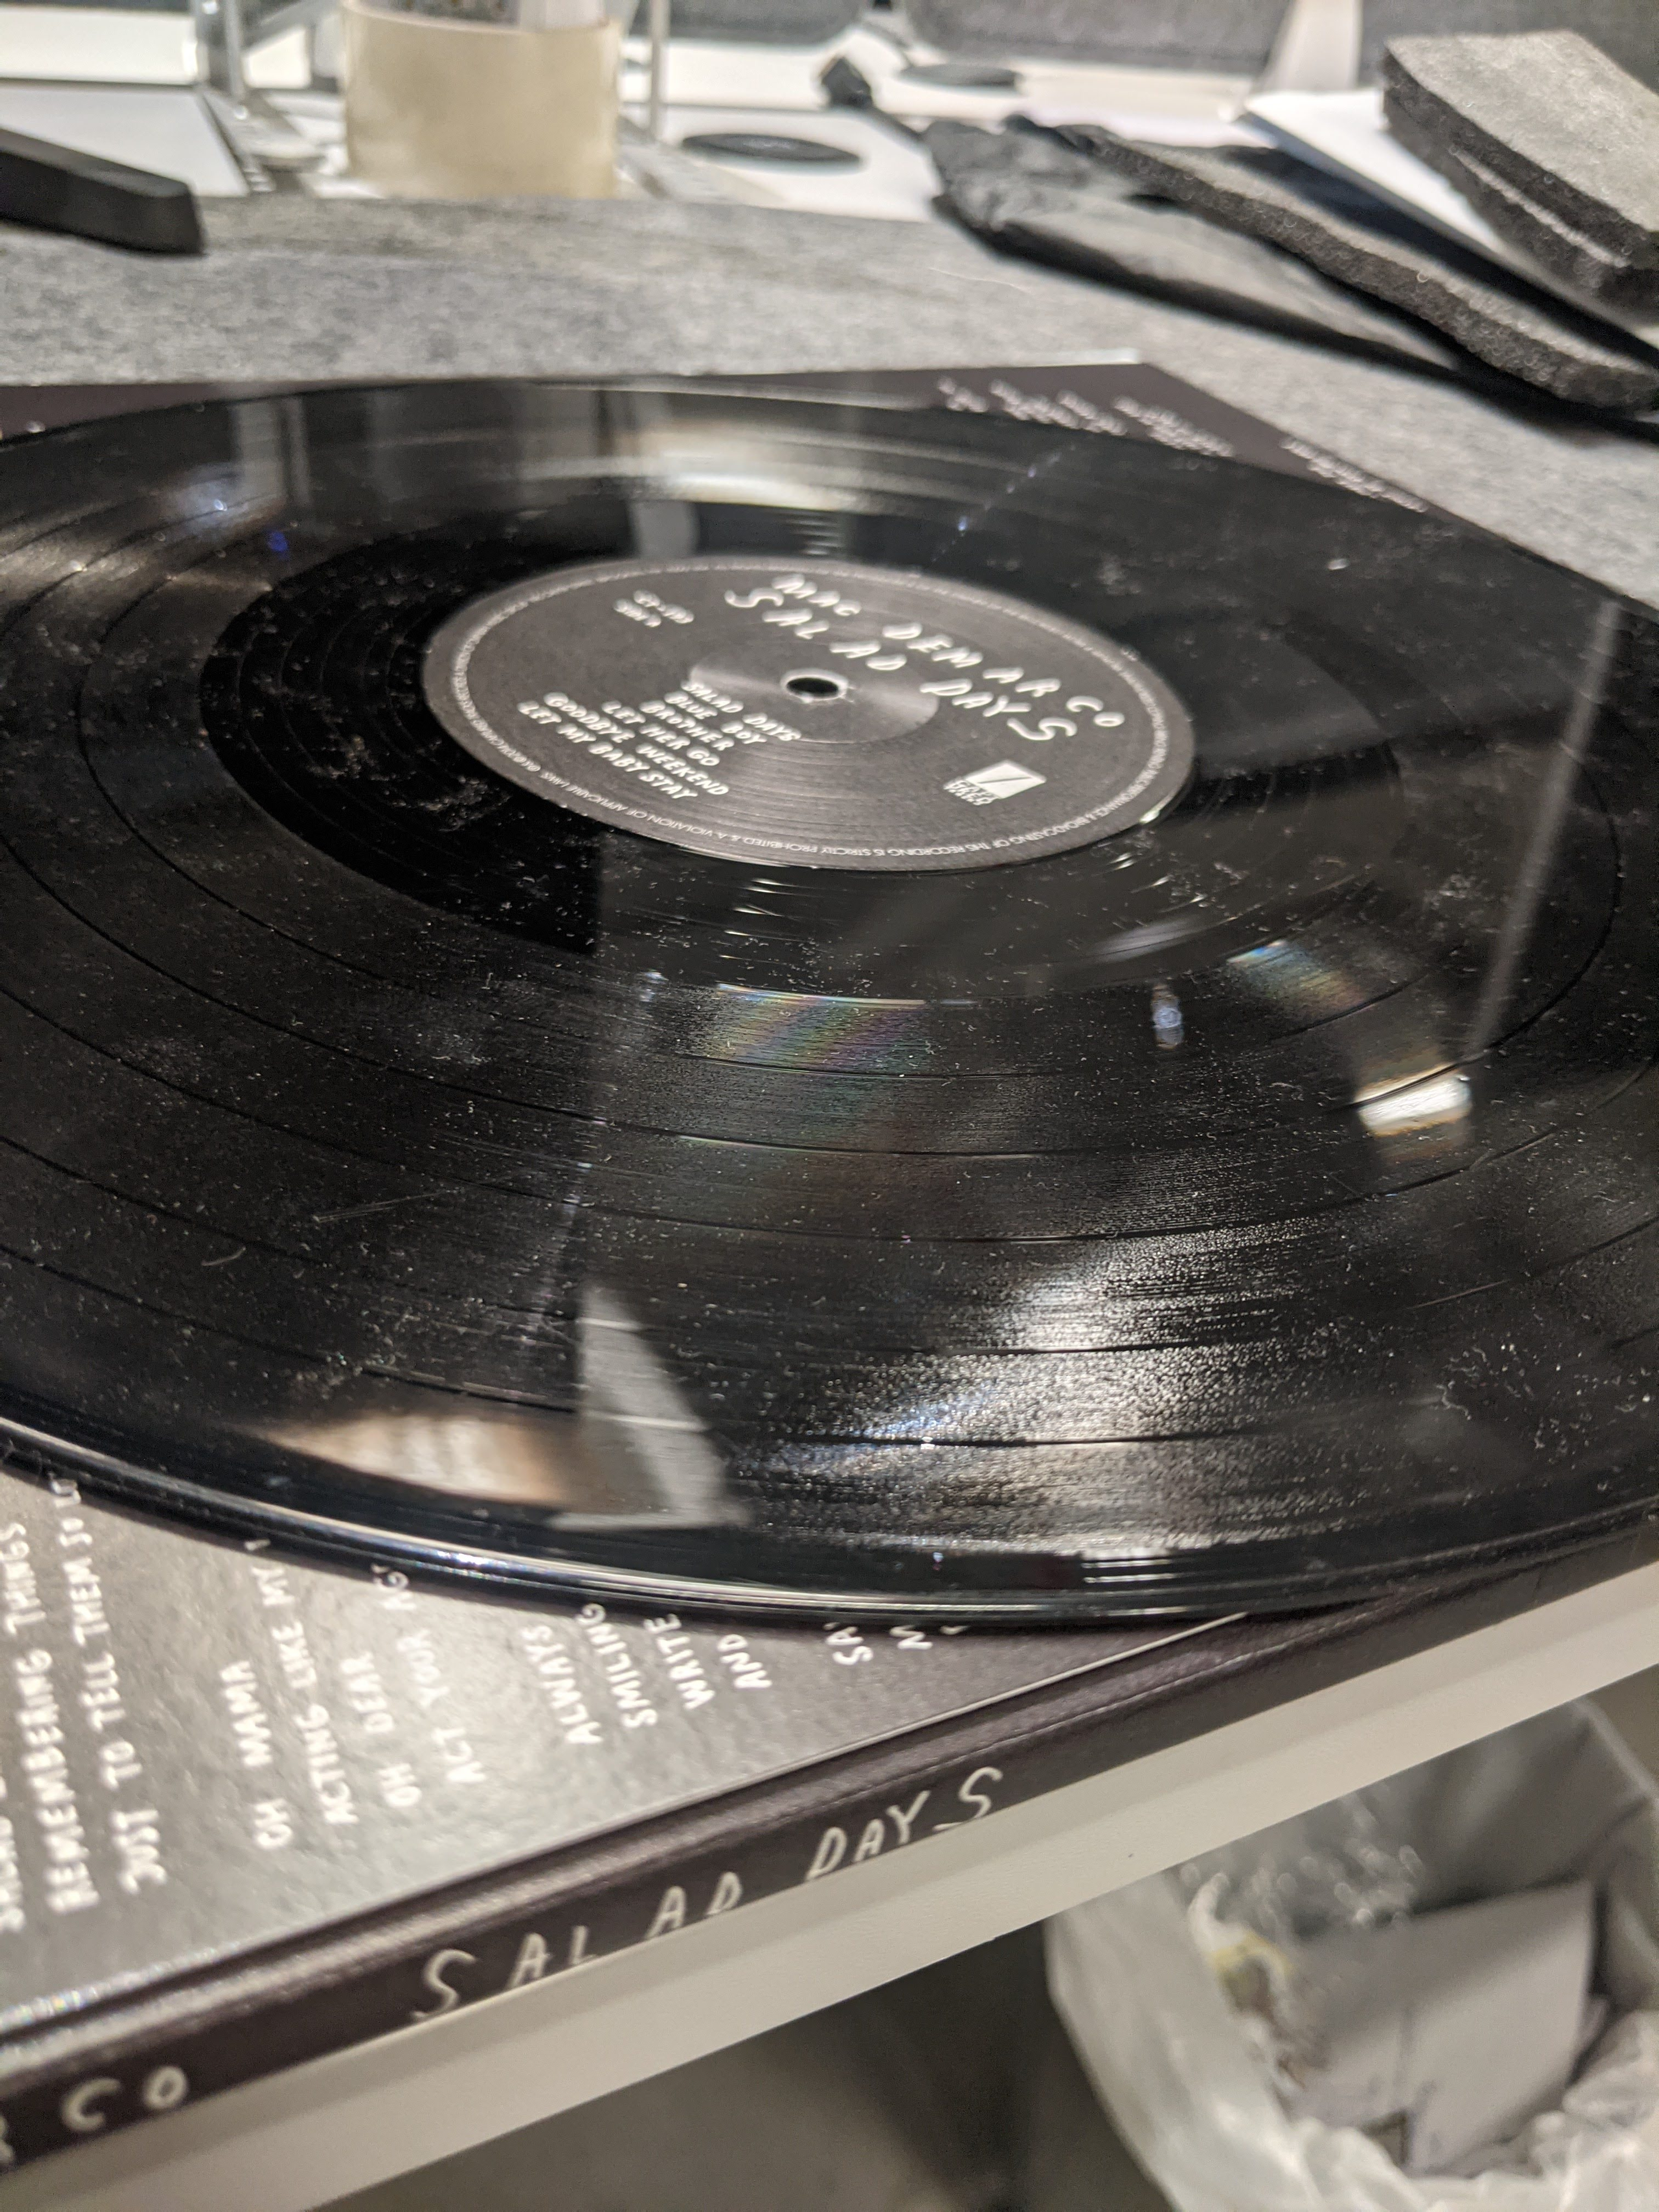song_edge: (570, 1371, 856, 1494), (960, 1285, 1216, 1402), (645, 1174, 842, 1280), (927, 1108, 1119, 1197), (671, 1022, 838, 1118)
